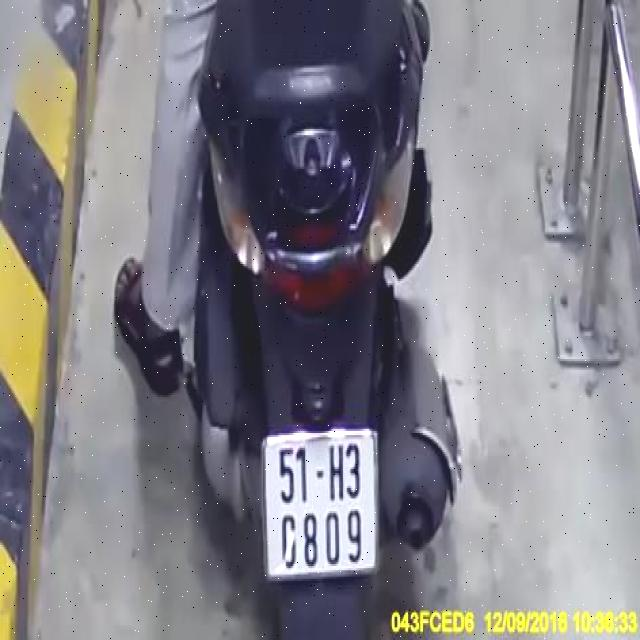0: (278, 512, 298, 571), (324, 508, 342, 564)
1: (294, 444, 312, 503)
3: (344, 443, 363, 501)
5: (277, 447, 296, 508)
8: (303, 511, 318, 569)
9: (347, 509, 364, 565)
H: (329, 443, 346, 503)
